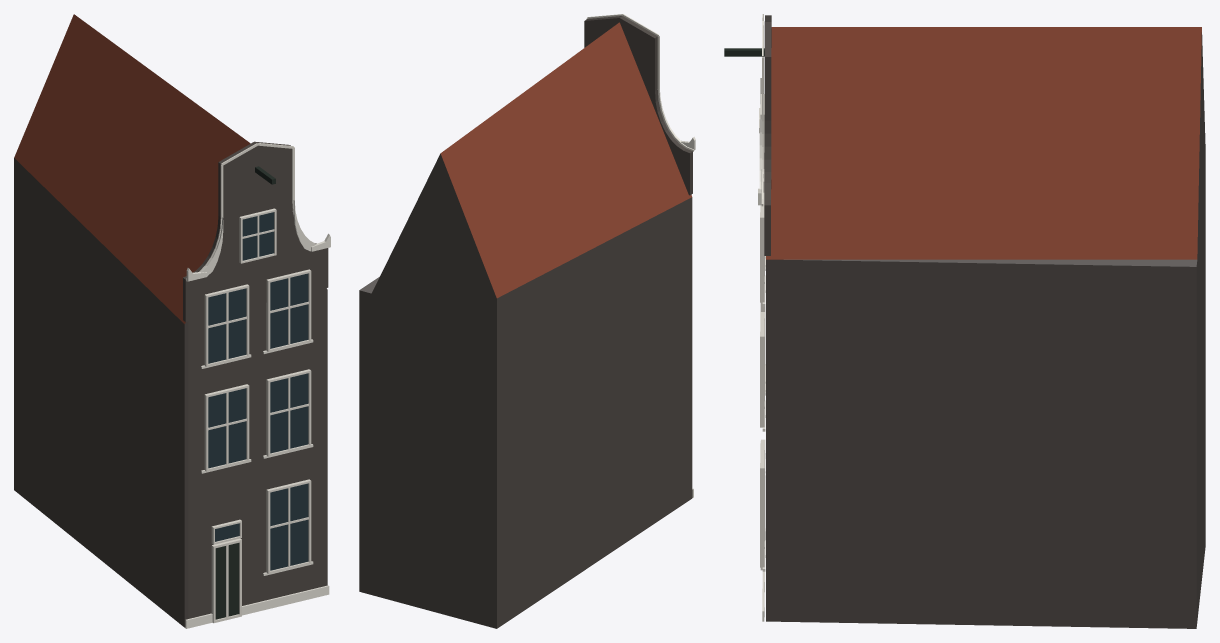
The picture shows the model from 3 angles, left to right: view 1: azimuth 30°, elevation 25°; view 2: azimuth 150°, elevation 25°; view 3: azimuth 270°, elevation 25°; orthographic projection. The views are drawn at different scales.
Visible parts, largest first — view 1: spec-0363100012177169; view 2: spec-0363100012177169; view 3: spec-0363100012177169.
Part boxes in pixels (left/top/right/bottom): spec-0363100012177169: left=14, top=14, right=330, bottom=628; spec-0363100012177169: left=359, top=14, right=695, bottom=628; spec-0363100012177169: left=724, top=14, right=1205, bottom=628.
Size of the model in its own units: 5.71 by 16.47 by 12.85.
